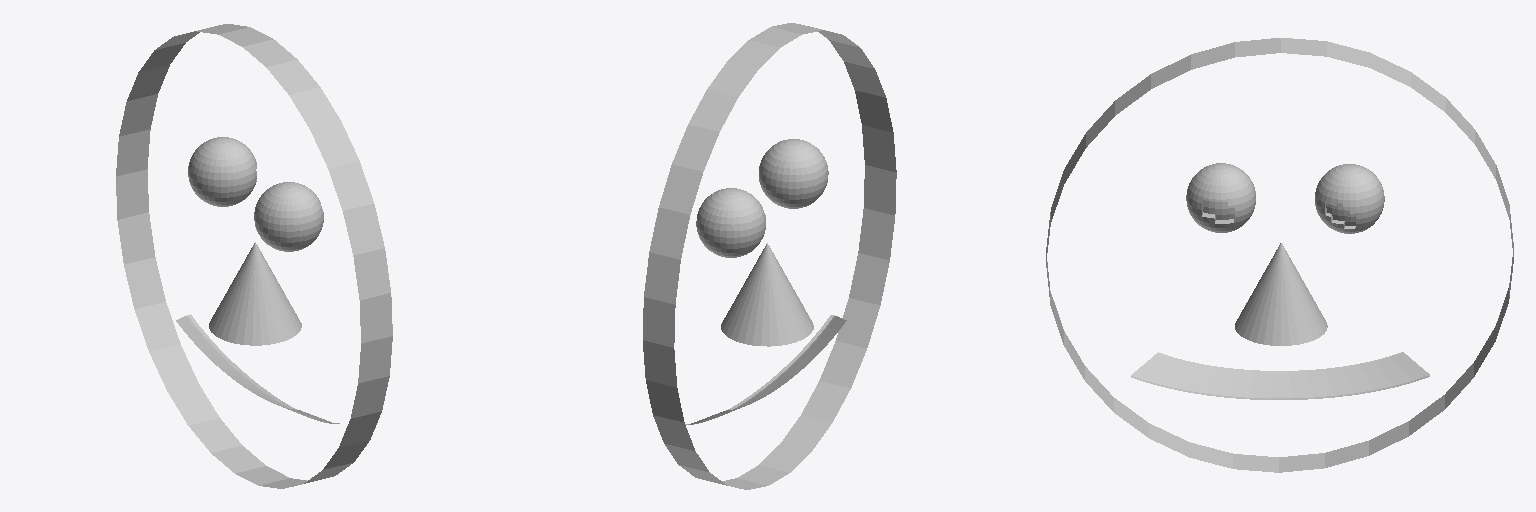
The picture shows the model from 3 angles: view 1: azimuth 30°, elevation 25°; view 2: azimuth 150°, elevation 25°; view 3: azimuth 270°, elevation 25°; orthographic projection.
Parts seen in each view (by area): view 1: Circle, Cone, Sphere, Sphere.001, SurfCurve; view 2: Circle, Cone, Sphere.001, Sphere, SurfCurve; view 3: Circle, SurfCurve, Cone, Sphere.001, Sphere.
Boxes of the visible parts, <box> form: Circle: <box>116,24,392,488</box>; Cone: <box>209,242,301,345</box>; Sphere: <box>254,182,323,251</box>; Sphere.001: <box>188,137,256,206</box>; SurfCurve: <box>176,314,339,423</box>; Circle: <box>643,23,896,489</box>; Cone: <box>721,243,813,346</box>; Sphere.001: <box>696,188,765,257</box>; Sphere: <box>759,139,828,208</box>; SurfCurve: <box>685,315,846,424</box>; Circle: <box>1046,38,1513,472</box>; SurfCurve: <box>1131,352,1429,399</box>; Cone: <box>1235,243,1327,345</box>; Sphere.001: <box>1315,164,1384,233</box>; Sphere: <box>1186,163,1255,232</box>.
Size of the model in its own units: 39.8 by 200 by 200.